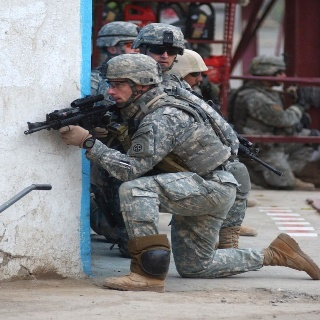rifle: (23, 92, 124, 145)
